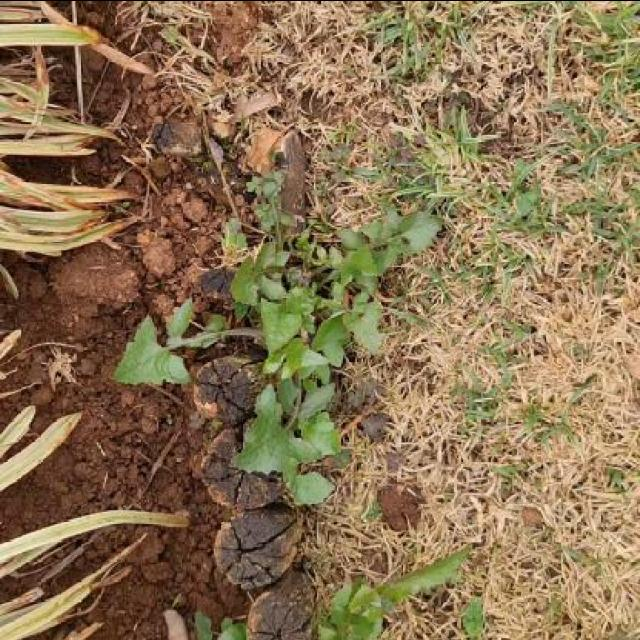weed: (231, 175, 442, 506), (115, 302, 201, 383)
